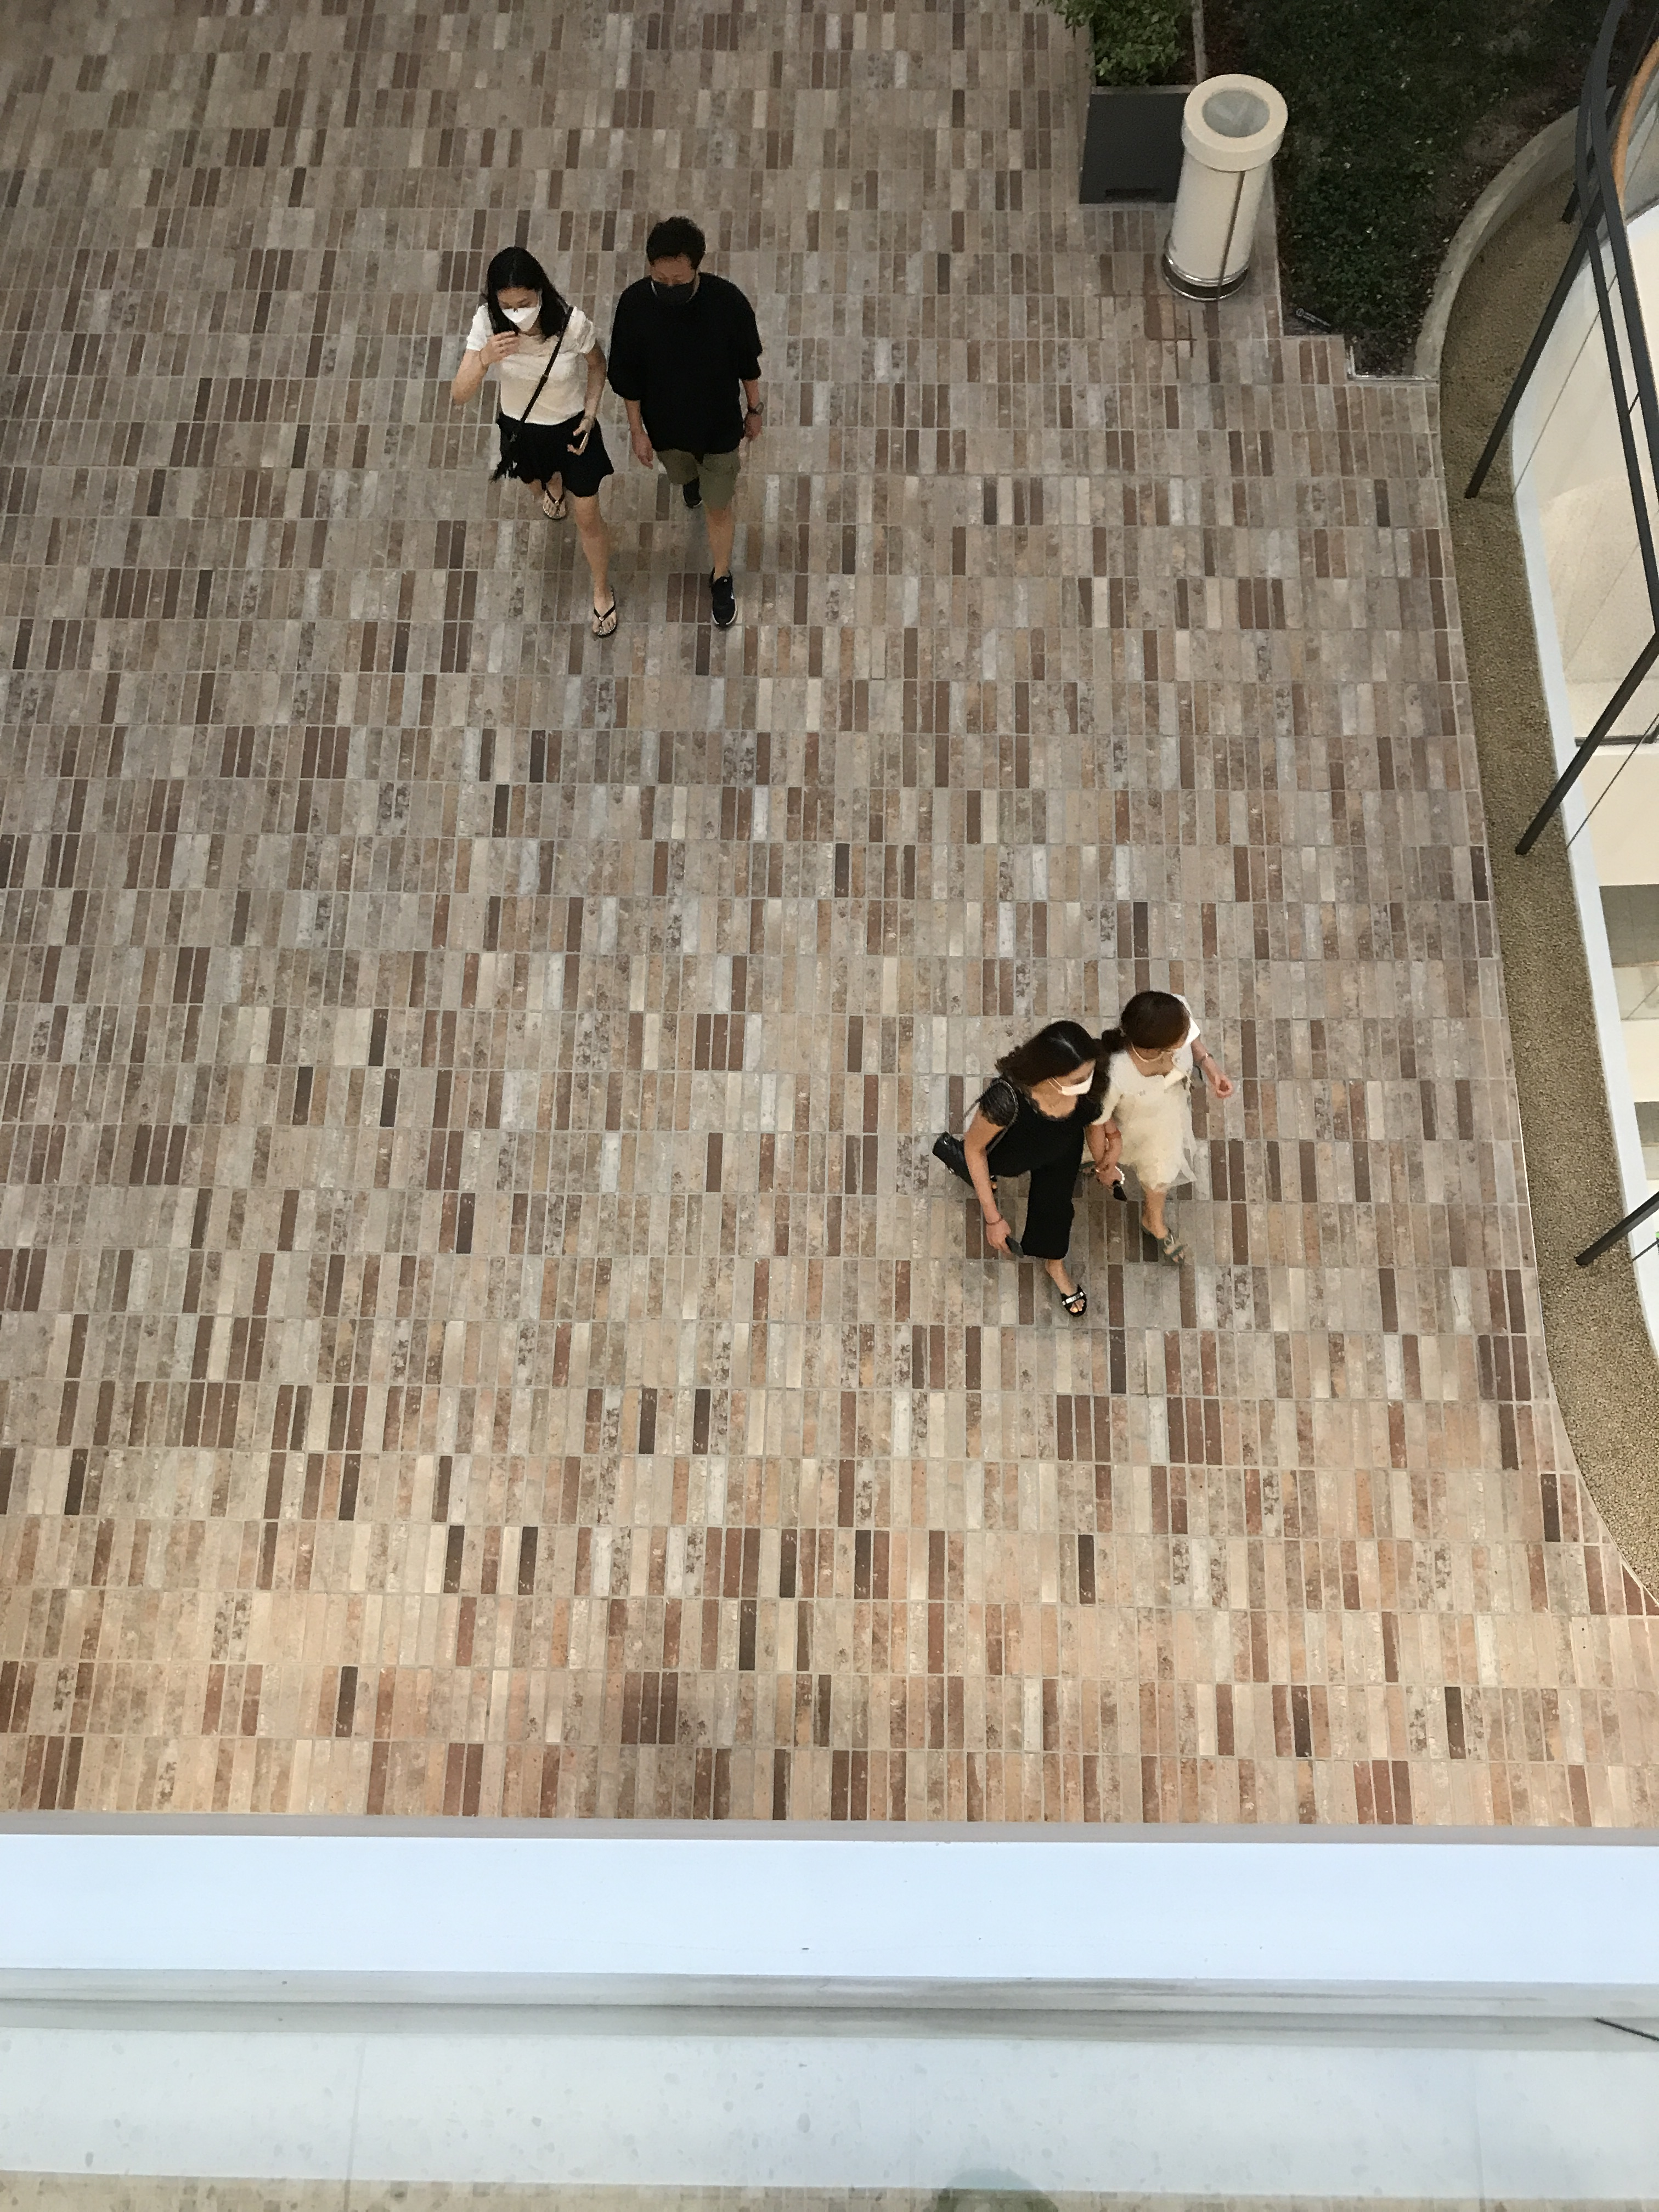person: (597, 215, 765, 629), (448, 254, 628, 635), (939, 1019, 1101, 1314), (1082, 985, 1238, 1281)
